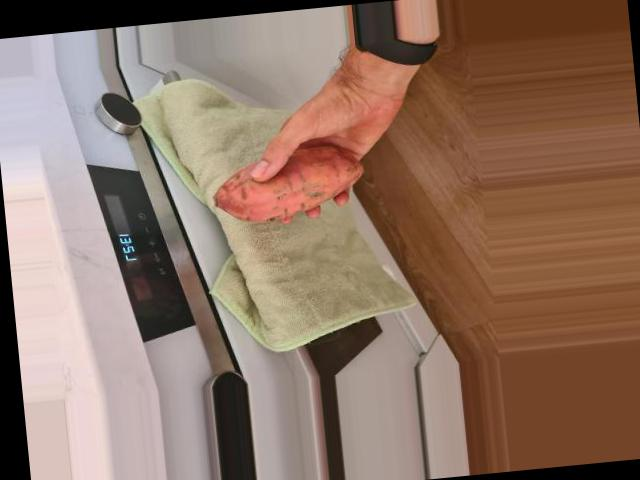sweet_potato: (210, 142, 371, 224)
